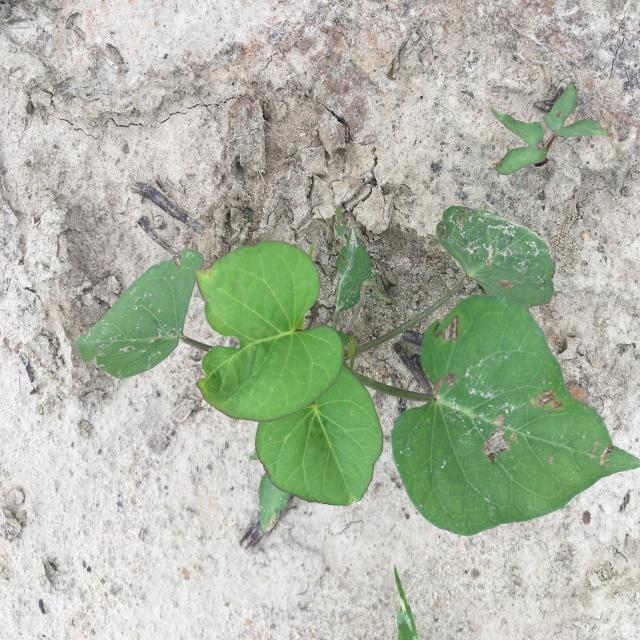MorningGlory: (74, 206, 640, 536), (490, 81, 612, 176)
